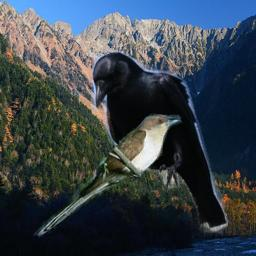Crow: (90, 51, 228, 236)
Cuckoo: (33, 113, 185, 242)
